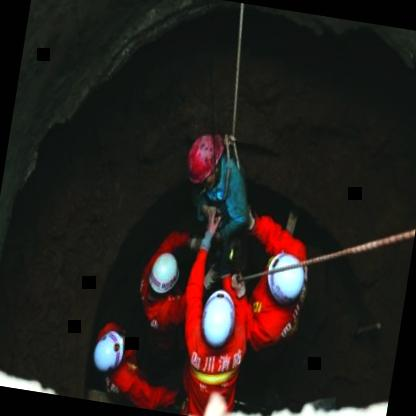helmet: (194, 284, 242, 352), (180, 129, 229, 193), (262, 248, 308, 304), (88, 328, 132, 378), (142, 247, 184, 298)
